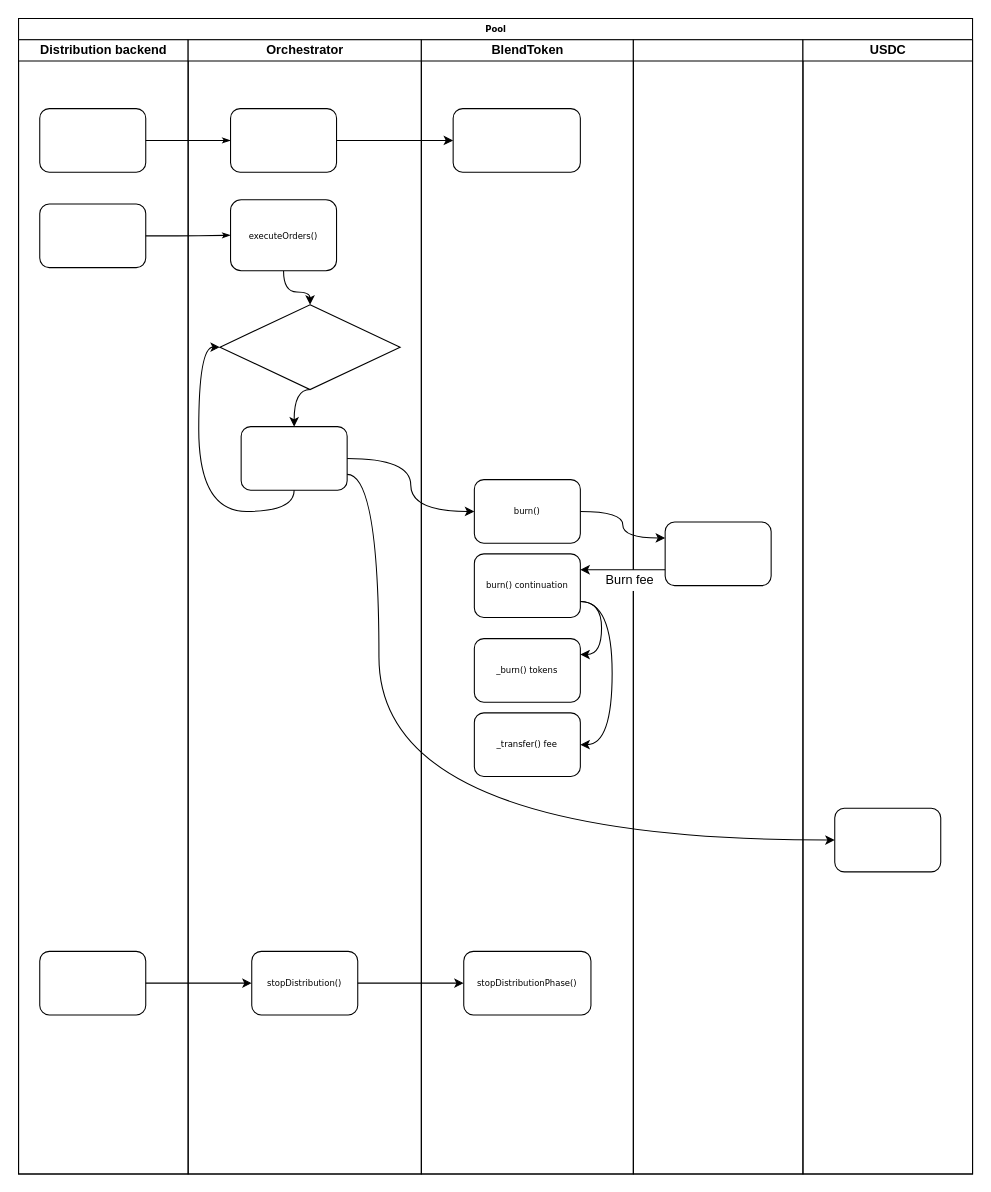
Some shapes in this 991 by 1192 pixel diagram are drawn without their labels. Each missing label, with the box of its shape:
_executeOrder(): (240, 426, 347, 490)
dispatchBurn(): (664, 521, 771, 586)
Registry: (632, 39, 803, 1174)
startDistribution(): (229, 108, 337, 172)
startDistributionPhase(): (452, 108, 580, 172)
usdc.transferFrom(): (834, 807, 941, 872)
While enough USDC & orders left: (219, 304, 400, 390)
